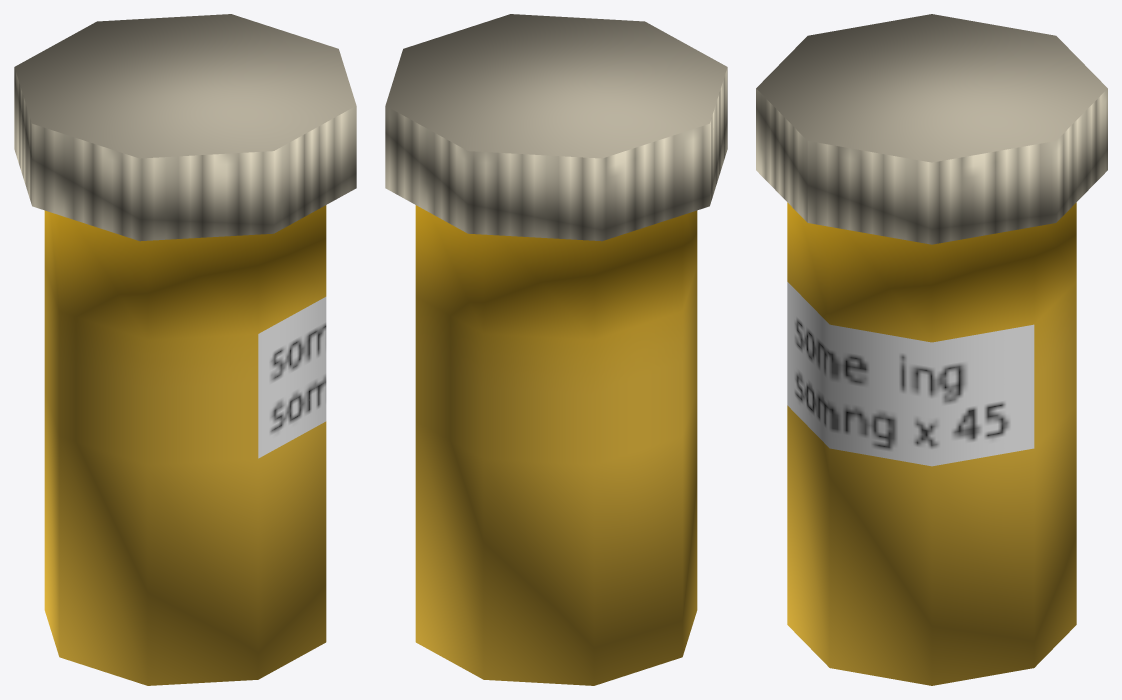
File: Pills.fbx
3 renders of one model, left to right at view 1: azimuth 30°, elevation 25°; view 2: azimuth 150°, elevation 25°; view 3: azimuth 270°, elevation 25°, orthographic.
Parts seen in each view (by area): view 1: Cube; view 2: Cube; view 3: Cube.
Part boxes in pixels (x1=…): Cube: x1=14, y1=14, x2=356, y2=685; Cube: x1=385, y1=14, x2=727, y2=685; Cube: x1=756, y1=14, x2=1107, y2=685.
Size of the model in its own units: 38.52 by 64.83 by 38.52.
1 material, 1 textured.
